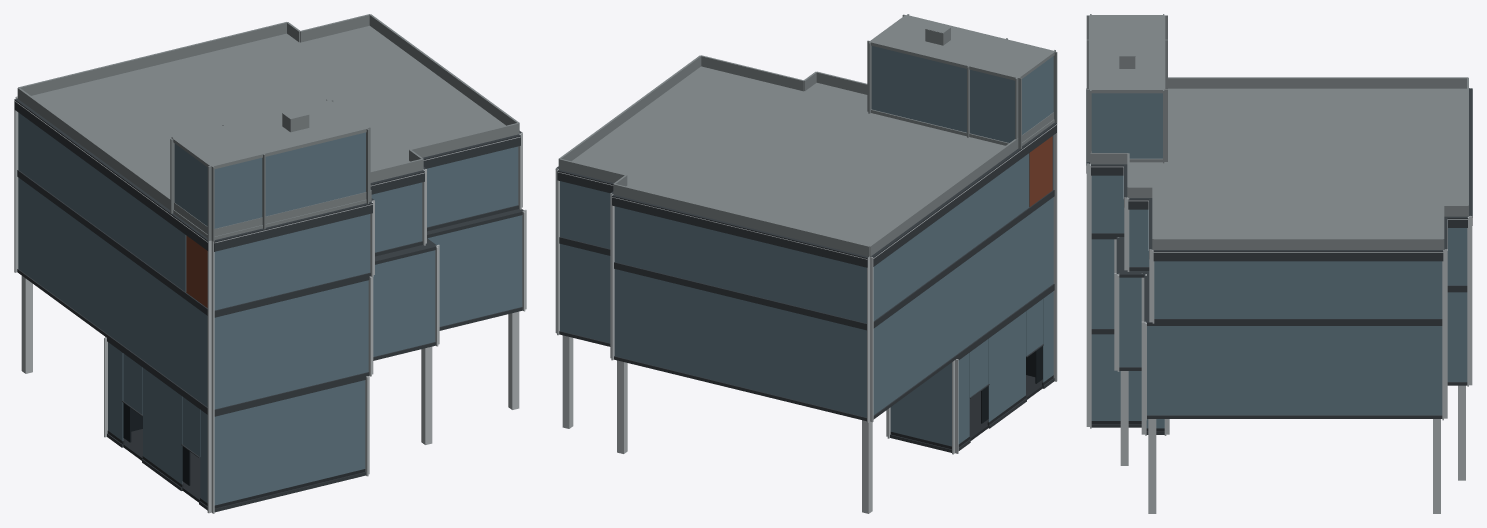
File: building-v3-lod2.glb
3 views of the same model, side by side, from view 1: azimuth 30°, elevation 25°; view 2: azimuth 150°, elevation 25°; view 3: azimuth 270°, elevation 25° (orthographic). The views are drawn at different scales.
Parts seen in each view (by area): view 1: building-v3_MATERIAL_BATCH; view 2: building-v3_MATERIAL_BATCH; view 3: building-v3_MATERIAL_BATCH.
Part boxes in pixels (x1,y1,x2,y2): building-v3_MATERIAL_BATCH: (14,14,526,513); building-v3_MATERIAL_BATCH: (555,14,1057,513); building-v3_MATERIAL_BATCH: (1086,14,1472,513).
Size of the model in its own units: 22.05 by 21.8 by 21.8.
